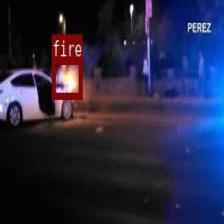fire: (51, 57, 82, 98)
